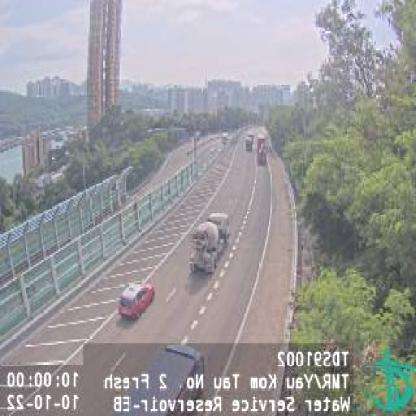Bus: (121, 343, 205, 416)
Car: (119, 281, 156, 321)
Truck: (189, 212, 231, 274)
